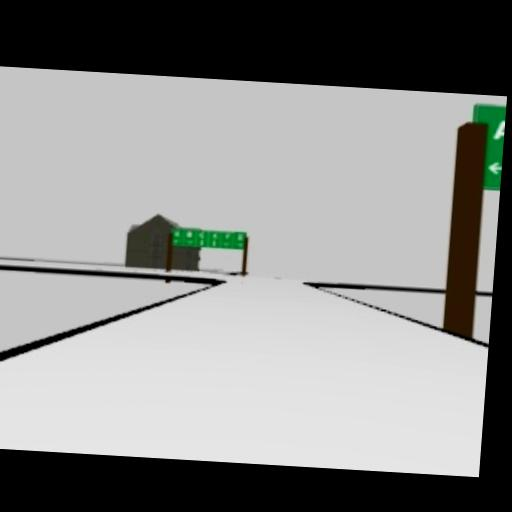A: (492, 118, 505, 140)
Left: (486, 159, 502, 174)
